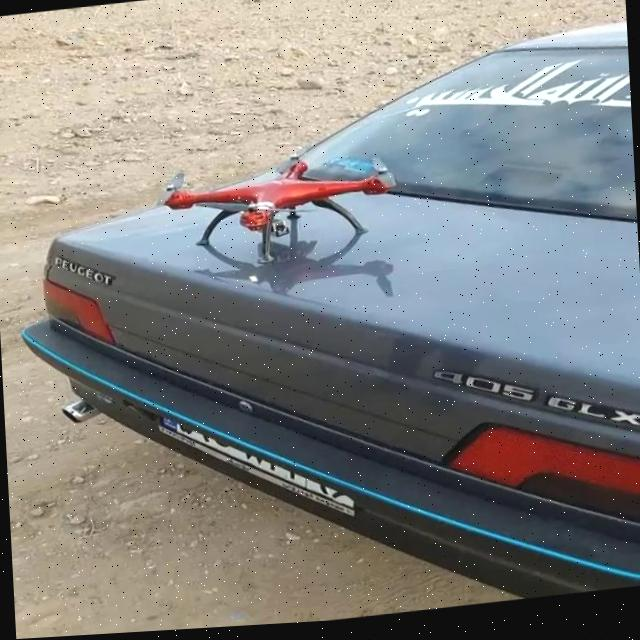drone: (148, 140, 402, 277)
